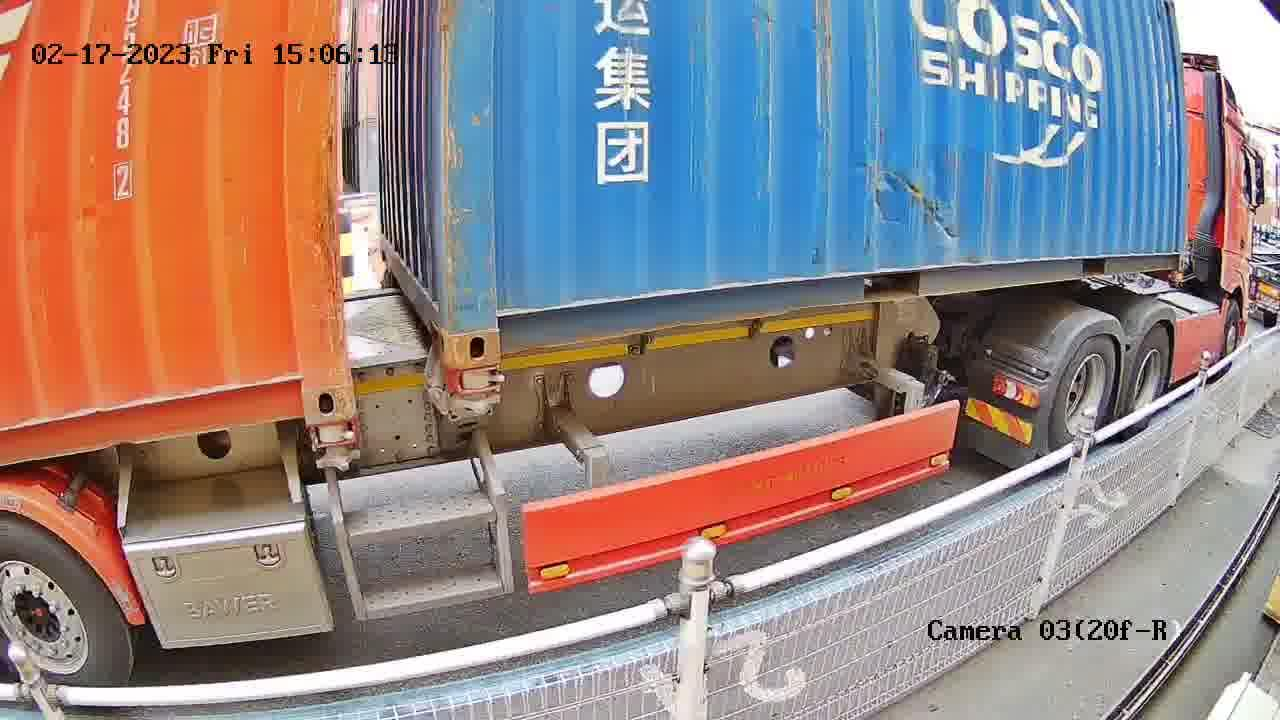Cone: (444, 363, 505, 425), (303, 420, 362, 473)
Hole_L: (448, 275, 538, 367)
Hole_R: (242, 334, 356, 422)
Tire: (0, 516, 126, 712), (1053, 338, 1119, 451), (1122, 325, 1173, 433)
